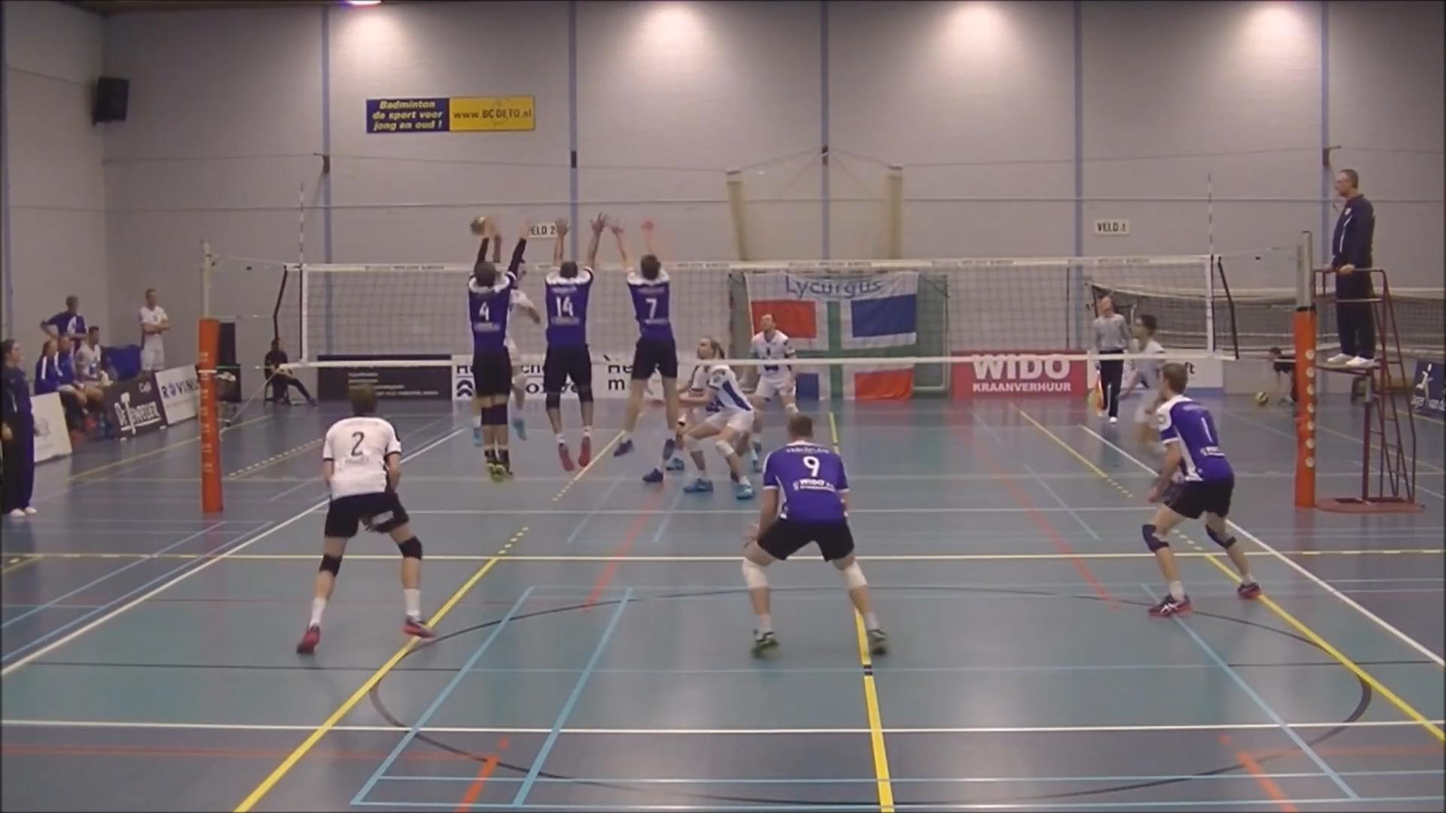Attack: (471, 243, 539, 447)
Block: (597, 217, 691, 474), (469, 212, 539, 487), (541, 214, 608, 470)
Player: (296, 385, 432, 653), (743, 413, 886, 654), (1142, 363, 1261, 617), (682, 339, 755, 500), (643, 340, 721, 483), (750, 314, 797, 470), (1123, 314, 1164, 454)
ball: (462, 213, 492, 239)
